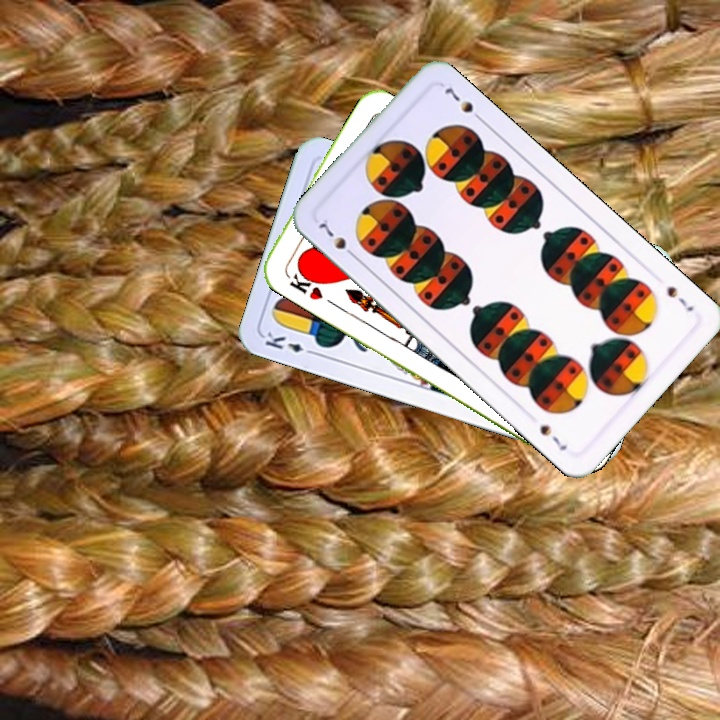EK: (261, 327, 319, 358)
HK: (281, 264, 326, 303)
S7: (314, 215, 360, 262), (662, 282, 696, 315)
